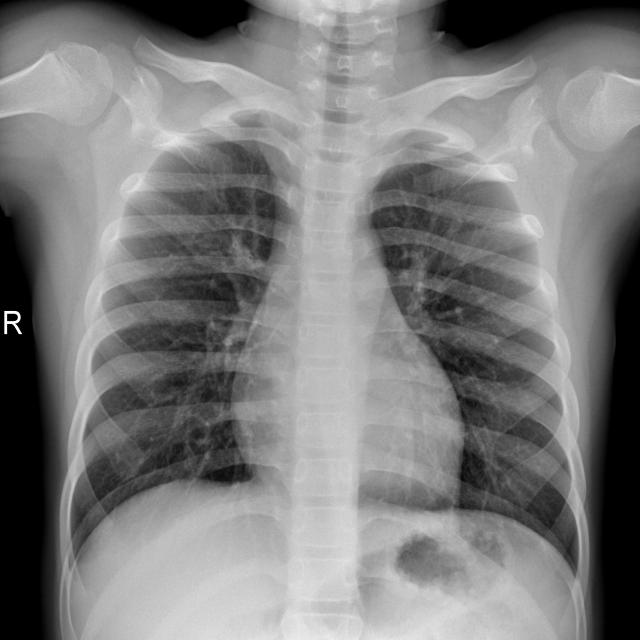no-pneumonia: (72, 141, 292, 554), (372, 162, 587, 573)
